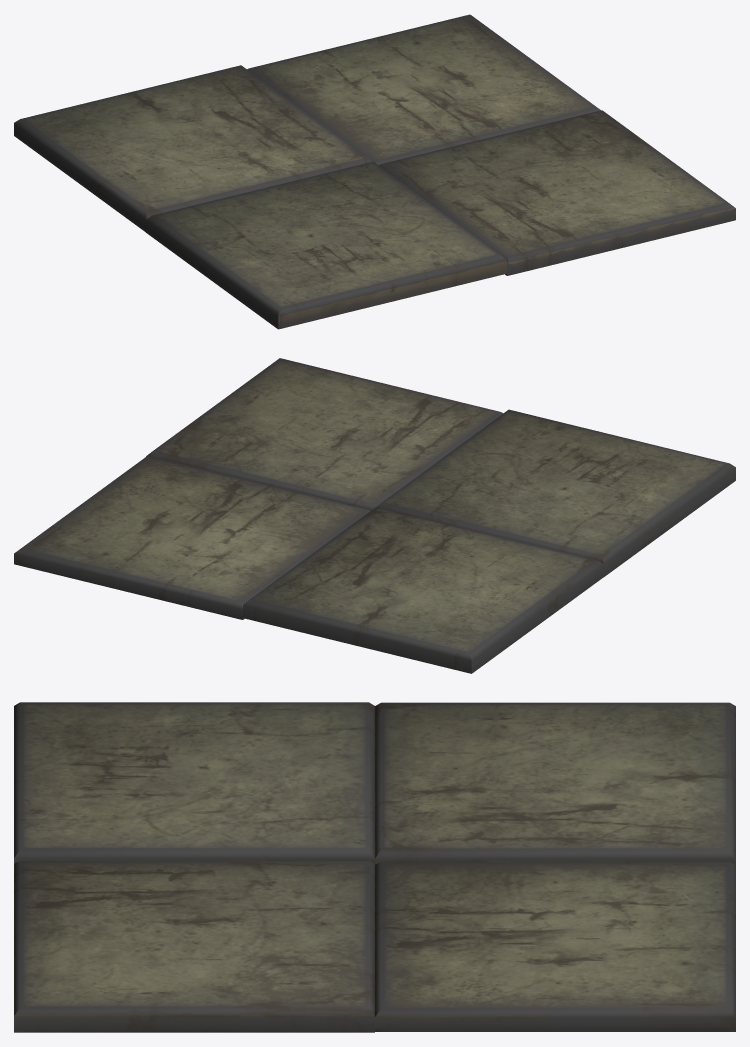
File: SM_StoneFloor6x6.fbx
3 views of the same model, one above another, from view 1: azimuth 30°, elevation 25°; view 2: azimuth 150°, elevation 25°; view 3: azimuth 270°, elevation 25° (orthographic). The views are drawn at different scales.
Visible parts, largest first — view 1: SM_StoneFloor6x6; view 2: SM_StoneFloor6x6; view 3: SM_StoneFloor6x6.
Boxes of the visible parts, left/top/right/bottom form: SM_StoneFloor6x6: left=14, top=14, right=735, bottom=329; SM_StoneFloor6x6: left=14, top=358, right=735, bottom=673; SM_StoneFloor6x6: left=14, top=702, right=735, bottom=1032.
Size of the model in its own units: 600 by 25.51 by 600.
